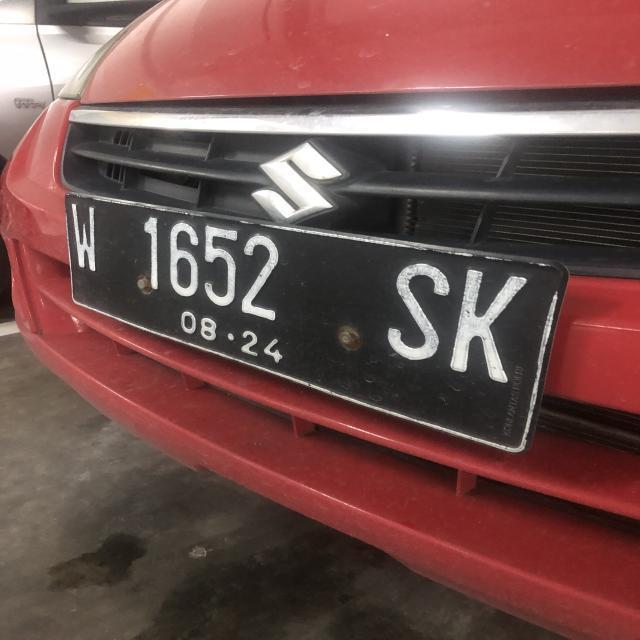1: (140, 216, 166, 294)
2: (238, 232, 289, 324)
5: (201, 224, 241, 310)
6: (168, 220, 200, 296)
K: (456, 266, 530, 387)
S: (387, 262, 449, 364)
W: (72, 202, 106, 272)
